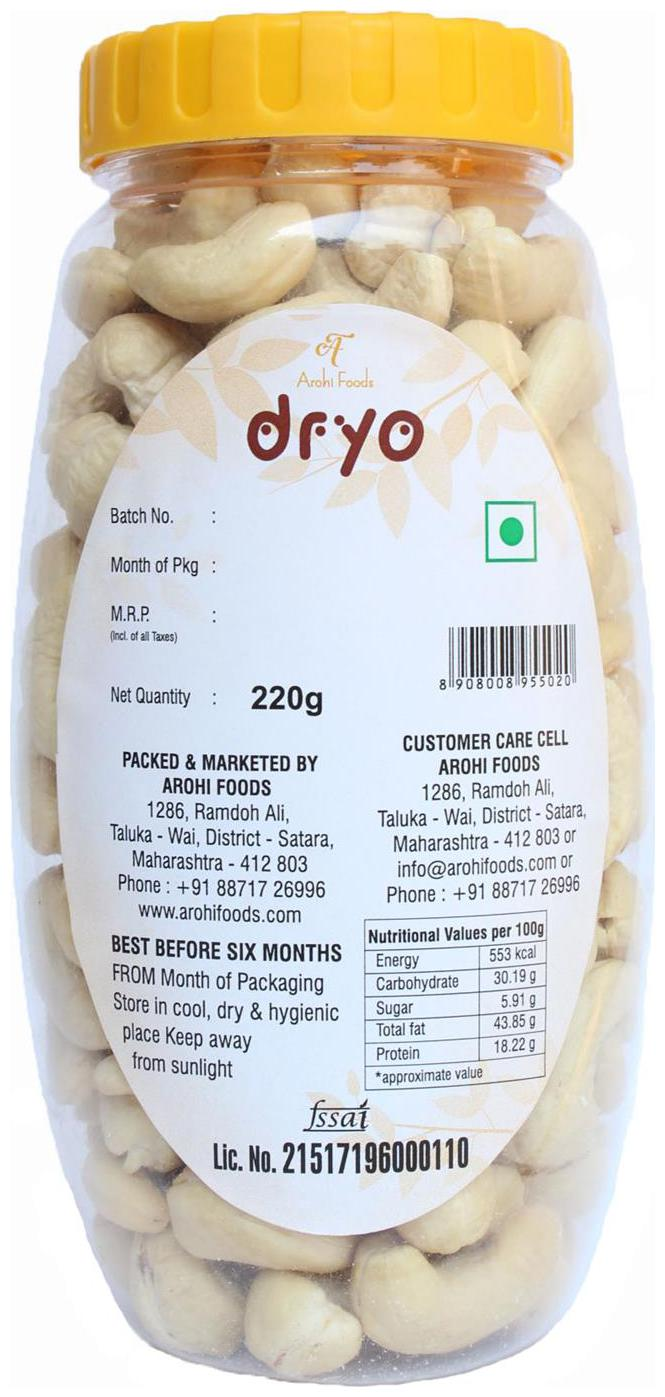fssai: (302, 1098, 371, 1134)
